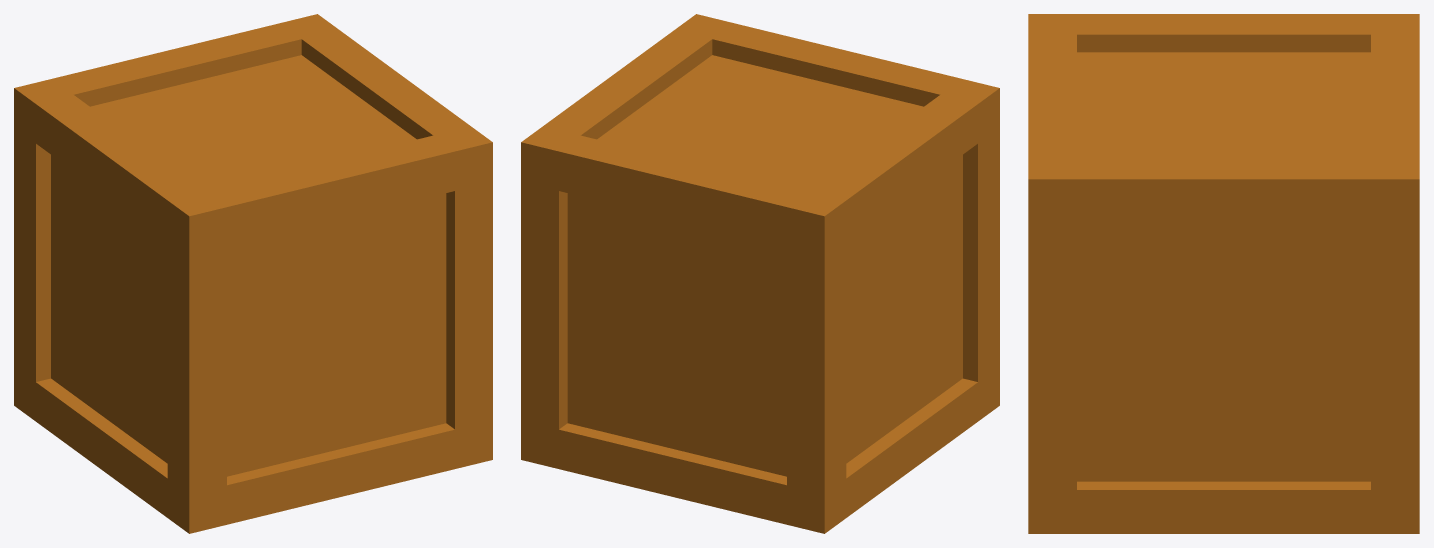
File: Crate01.dae
The picture shows the model from 3 angles, left to right: view 1: azimuth 30°, elevation 25°; view 2: azimuth 150°, elevation 25°; view 3: azimuth 270°, elevation 25°; orthographic projection. The views are drawn at different scales.
Visible parts, largest first — view 1: Crate01; view 2: Crate01; view 3: Crate01.
Part boxes in pixels (box(x1,y1,x2,y2)): Crate01: box(14, 14, 492, 533); Crate01: box(521, 14, 999, 533); Crate01: box(1028, 14, 1419, 533).
Bounding box in the file's own units: 1 × 1 × 1.
